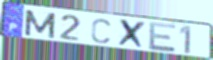1: (178, 25, 192, 56)
2: (59, 14, 83, 42)
C: (90, 17, 113, 44)
E: (148, 21, 178, 53)
M: (23, 9, 58, 40)
X: (116, 18, 148, 51)
